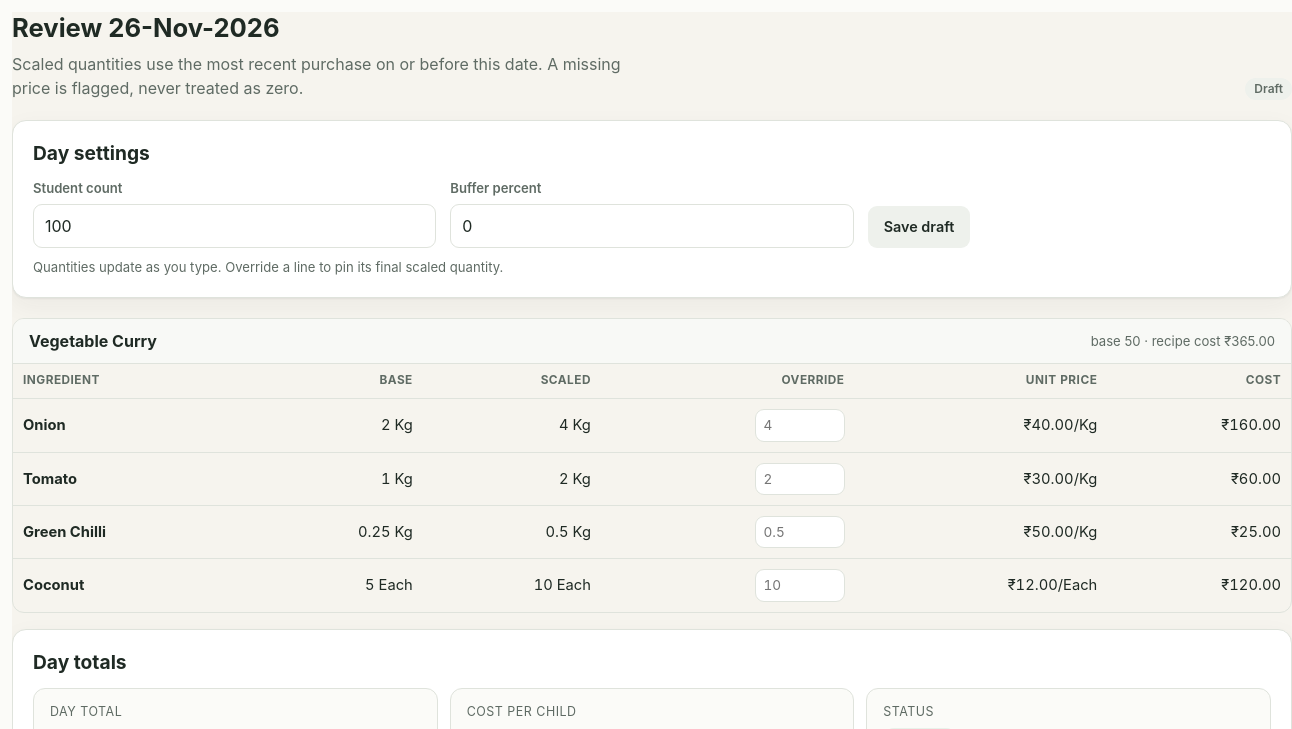
DailyReview screen › applies an override to a single line
expect the heading "Vegetable Curry" is shown: met, box [29,331,157,351]
Type "5" into the number field named "Override quantity for Onion" at (800, 425), box [754,409,844,442]
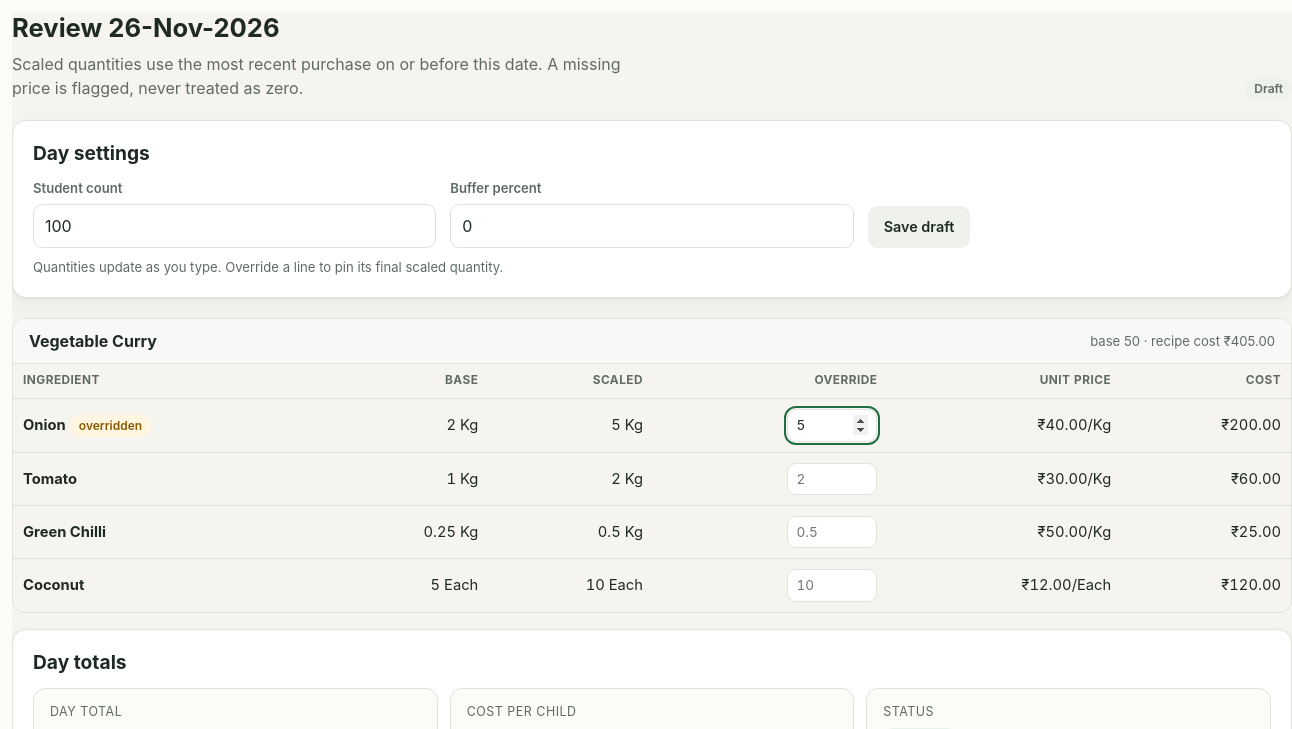
expect the text "overridden" is shown: met, box [70,415,151,437]
expect the text "₹200.00" is shown: met, box [1121,399,1291,452]
